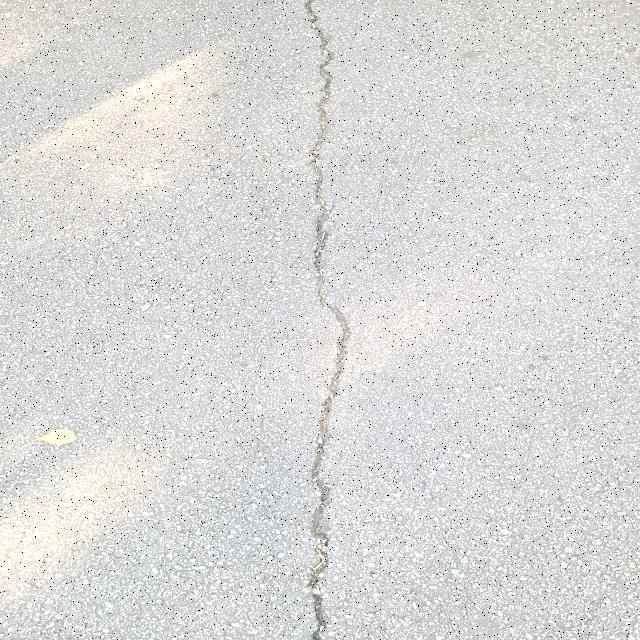moderate crack: (302, 10, 350, 630), (142, 279, 202, 338), (306, 573, 327, 634), (38, 424, 79, 447), (133, 285, 154, 311), (478, 382, 498, 390)
severe crack: (328, 315, 351, 348), (306, 154, 319, 166)
